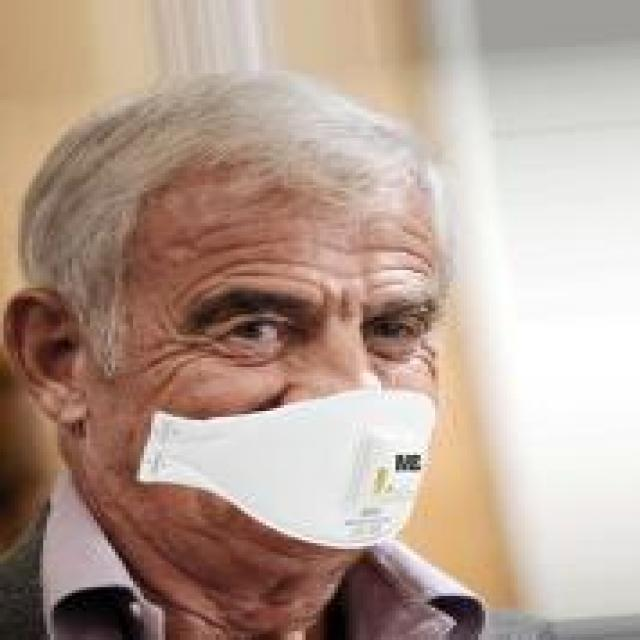mask: (0, 73, 554, 599)
